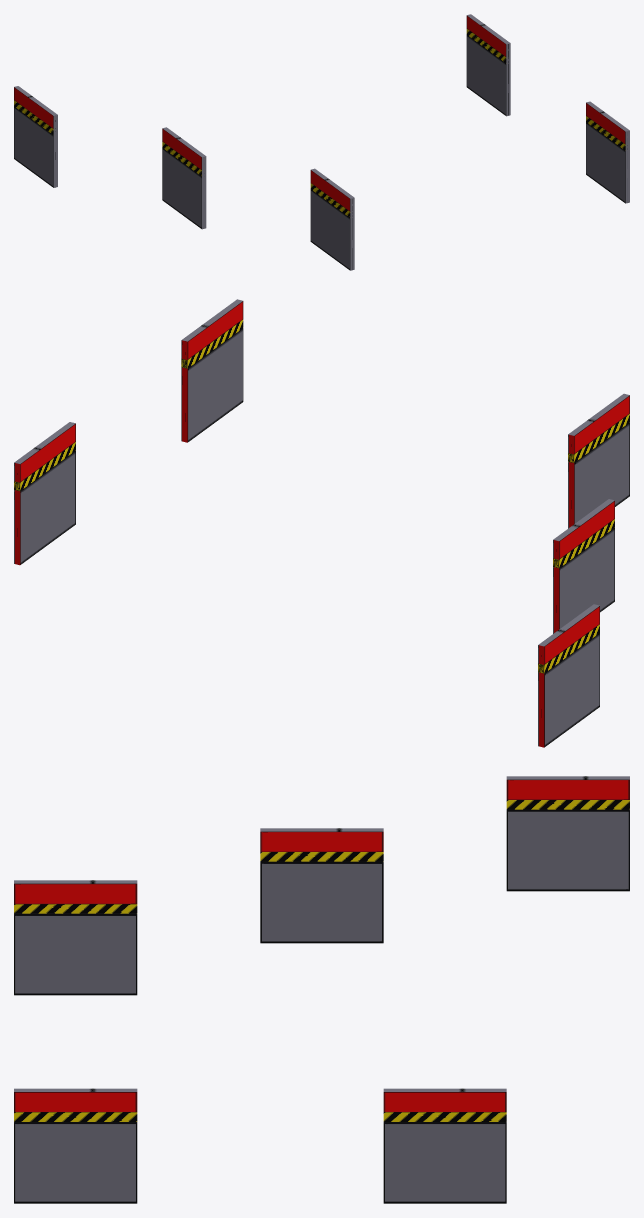
Rendered from Paredes2.glb.
3 renders of one model, top to bottom at view 1: azimuth 30°, elevation 25°; view 2: azimuth 150°, elevation 25°; view 3: azimuth 270°, elevation 25°, orthographic. The views are drawn at different scales.
Parts seen in each view (by area): view 1: Cube.197, Cube.198, Cube.200, Cube.196, Cube.199; view 2: Cube.196, Cube.199, Cube.200, Cube.197, Cube.198; view 3: Cube.198, Cube.196, Cube.197, Cube.199, Cube.200.
Part boxes in pixels (<box>): Cube.197: <box>310,168,354,270</box>; Cube.198: <box>162,127,206,229</box>; Cube.200: <box>466,14,510,116</box>; Cube.196: <box>586,101,629,203</box>; Cube.199: <box>14,86,57,187</box>; Cube.196: <box>181,299,243,442</box>; Cube.199: <box>538,604,599,747</box>; Cube.200: <box>14,422,75,565</box>; Cube.197: <box>568,393,629,528</box>; Cube.198: <box>553,499,614,633</box>; Cube.198: <box>260,828,383,943</box>; Cube.196: <box>14,1088,137,1203</box>; Cube.197: <box>14,880,137,995</box>; Cube.199: <box>506,776,629,891</box>; Cube.200: <box>383,1088,506,1203</box>.
Bounding box in the file's own units: 33.96 × 5.6 × 28.
2 materials, 2 textured.
